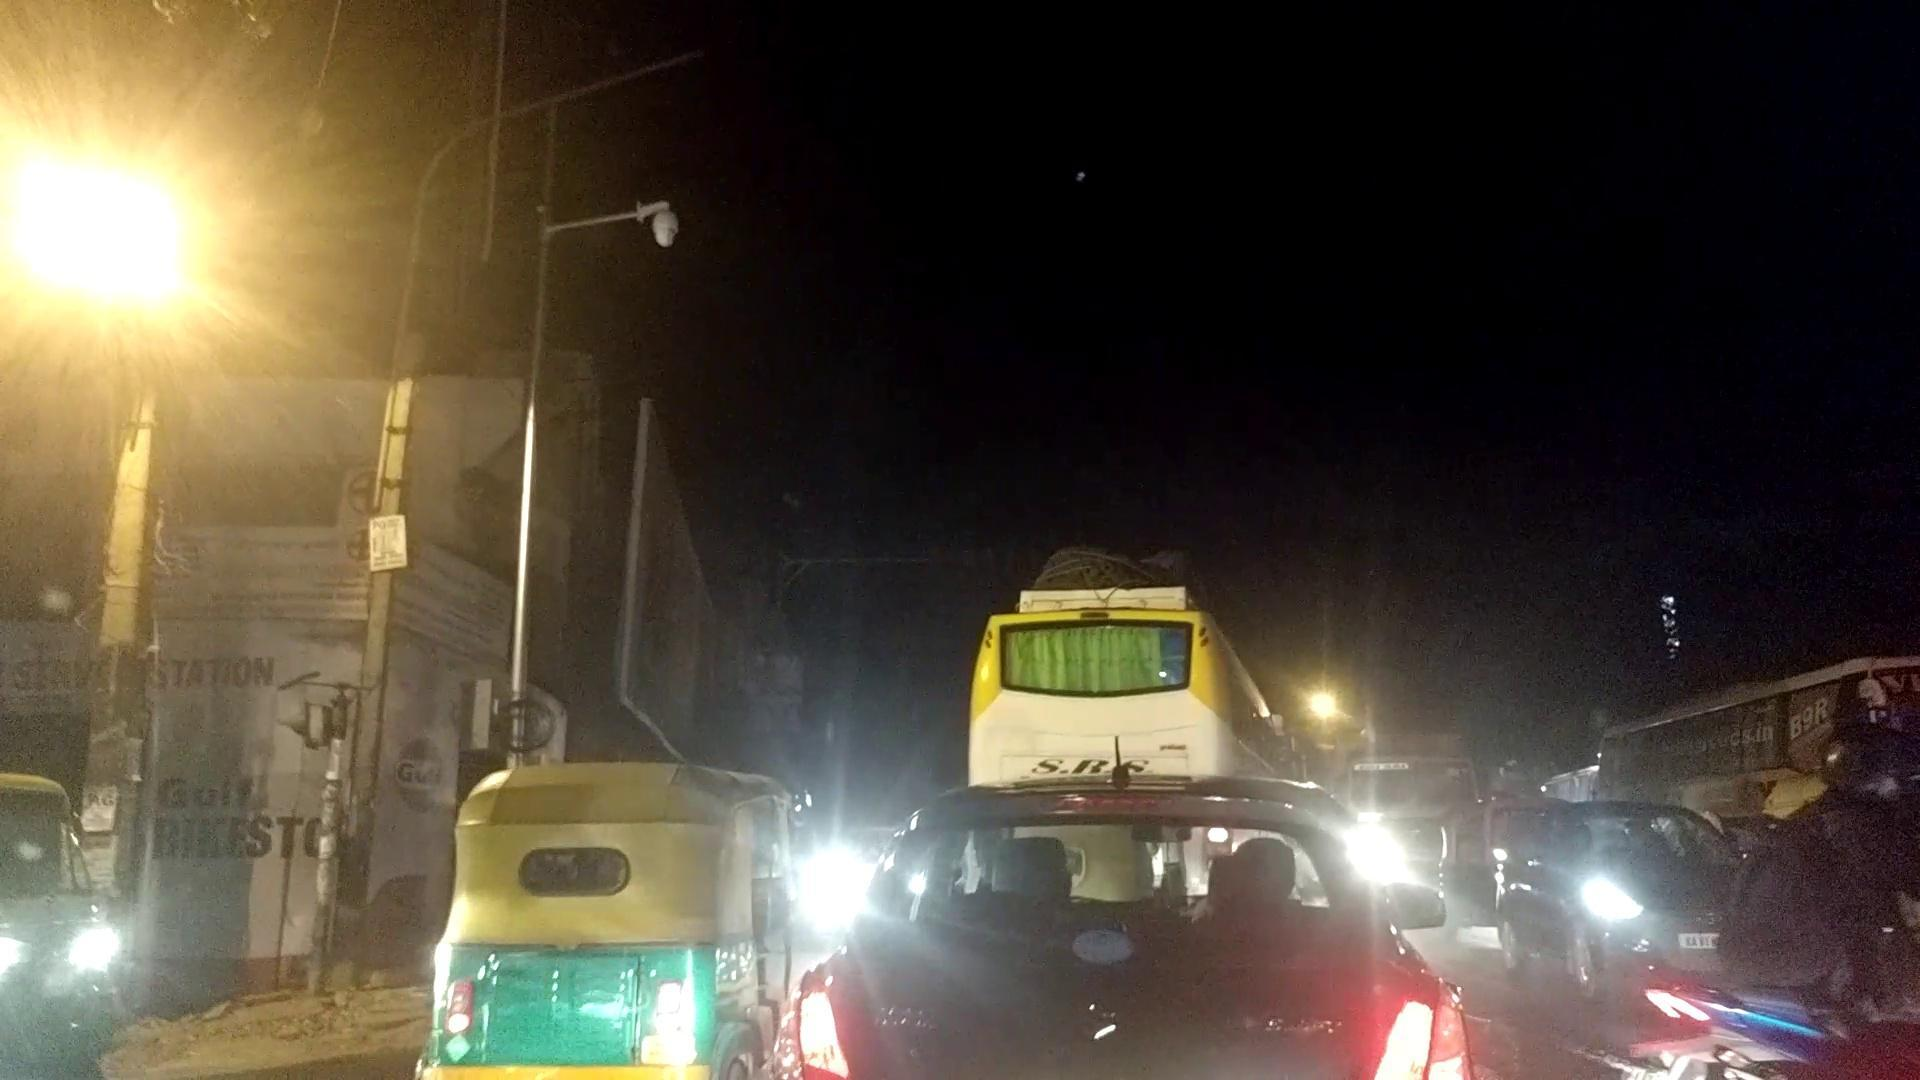on: (0, 12, 303, 715)
